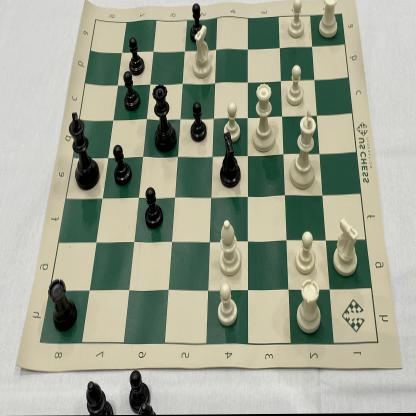black-king: (67, 107, 101, 194)
black-knight: (214, 132, 244, 192)
black-pawn: (142, 183, 167, 233), (119, 70, 142, 116), (186, 100, 210, 144), (112, 142, 134, 190), (186, 1, 209, 44), (126, 35, 148, 78)
black-queen: (147, 79, 179, 156)
black-rook: (46, 275, 81, 335)
white-bishop: (216, 215, 246, 279)
white-king: (287, 108, 321, 191)
white-knight: (330, 210, 362, 279)
white-pawn: (214, 280, 241, 330), (294, 229, 320, 275), (284, 63, 308, 107), (284, 0, 308, 41), (221, 101, 242, 144)
white-queen: (250, 80, 278, 154)
white-rook: (292, 277, 326, 336), (316, 0, 342, 42)
